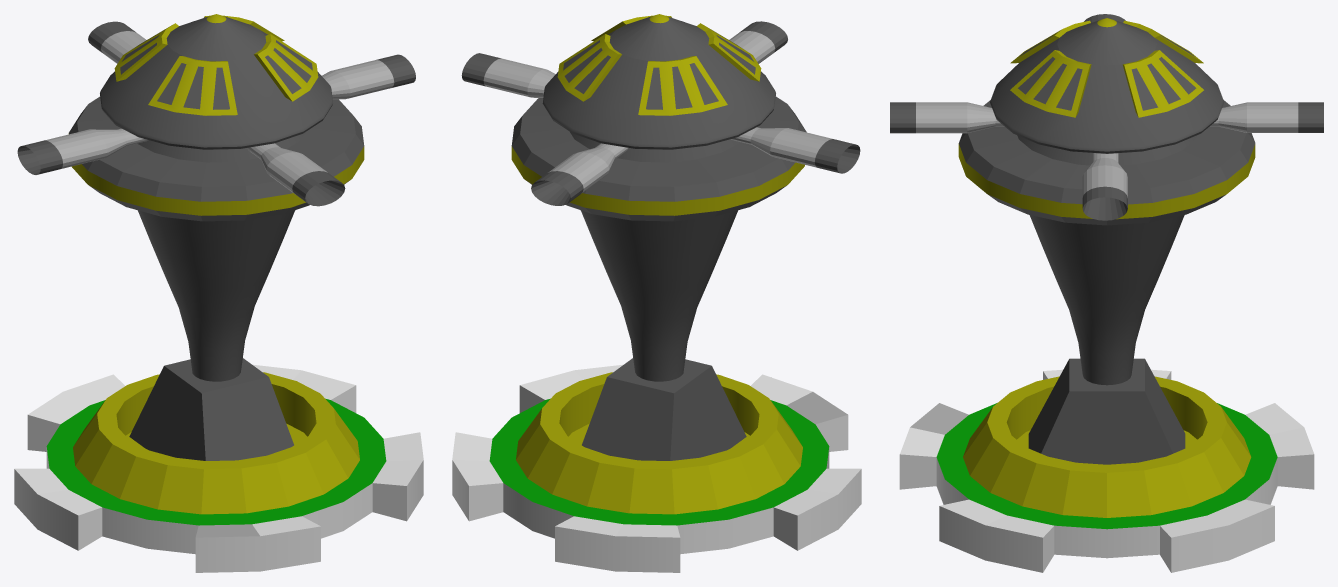
File: machine4.fbx
The picture shows the model from 3 angles, left to right: view 1: azimuth 30°, elevation 25°; view 2: azimuth 150°, elevation 25°; view 3: azimuth 270°, elevation 25°; orthographic projection.
Visible parts, largest first — view 1: machine4body2, machine4body, machine4body1, machine4barrel1, machine4barrel; view 2: machine4body2, machine4body, machine4body1, machine4barrel1, machine4barrel; view 3: machine4body2, machine4body, machine4body1, machine4barrel, machine4barrel1.
Boxes of the visible parts, bbox=[...] form: machine4body2: bbox=[68, 14, 364, 381]; machine4body: bbox=[14, 364, 423, 572]; machine4body1: bbox=[129, 358, 293, 460]; machine4barrel1: bbox=[17, 54, 415, 174]; machine4barrel: bbox=[88, 21, 345, 206]; machine4body2: bbox=[511, 14, 806, 381]; machine4body: bbox=[452, 364, 861, 572]; machine4body1: bbox=[582, 358, 746, 460]; machine4barrel1: bbox=[461, 53, 860, 173]; machine4barrel: bbox=[531, 21, 787, 205]; machine4body2: bbox=[958, 18, 1255, 385]; machine4body: bbox=[899, 369, 1314, 572]; machine4body1: bbox=[1028, 358, 1185, 464]; machine4barrel: bbox=[890, 102, 1323, 133]; machine4barrel1: bbox=[1082, 14, 1127, 220].
Size of the model in its own units: 125 by 150 by 125.
